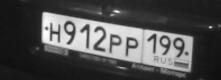license-plateSW: (40, 10, 194, 74)
